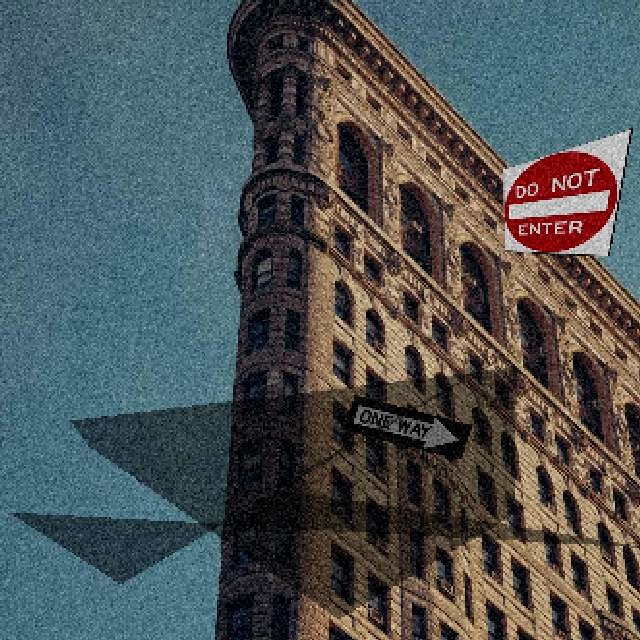DO_NOT_ENTER: (501, 126, 631, 255)
ONE_WAY_ right: (341, 393, 471, 458)
